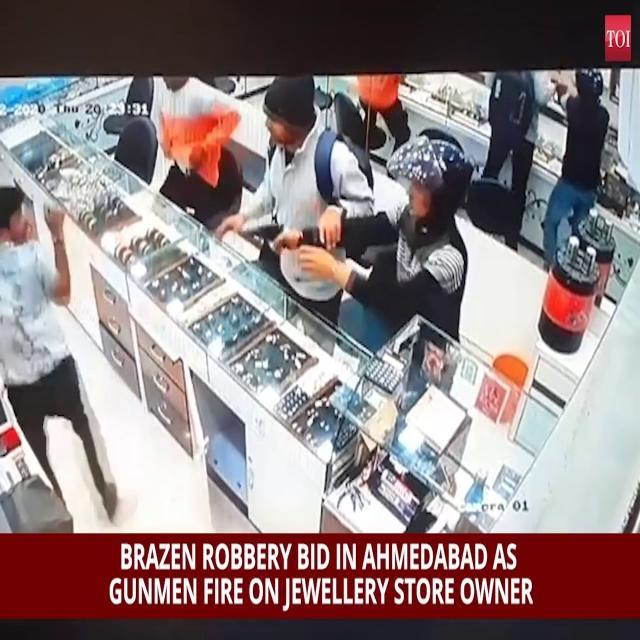weapon: (246, 220, 288, 250)
